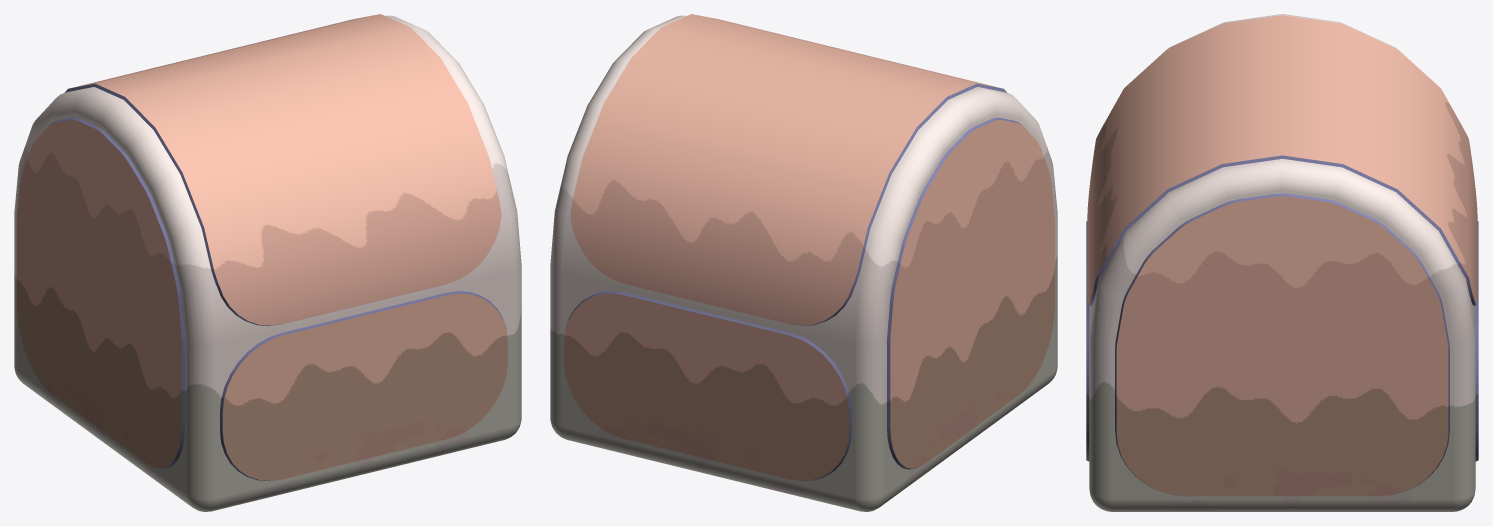
The model's file is R4B_RoundTop.glb.
The picture shows the model from 3 angles, left to right: view 1: azimuth 30°, elevation 25°; view 2: azimuth 150°, elevation 25°; view 3: azimuth 270°, elevation 25°; orthographic projection.
Parts seen in each view (by area): view 1: R4B_RoundTop; view 2: R4B_RoundTop; view 3: R4B_RoundTop.
Boxes of the visible parts, box(x1,y1,x2,y2) form: R4B_RoundTop: box(14, 14, 521, 511); R4B_RoundTop: box(550, 14, 1057, 511); R4B_RoundTop: box(1086, 14, 1478, 511).
Size of the model in its own units: 0.52 by 0.52 by 0.52.
3 materials, 3 textured.
